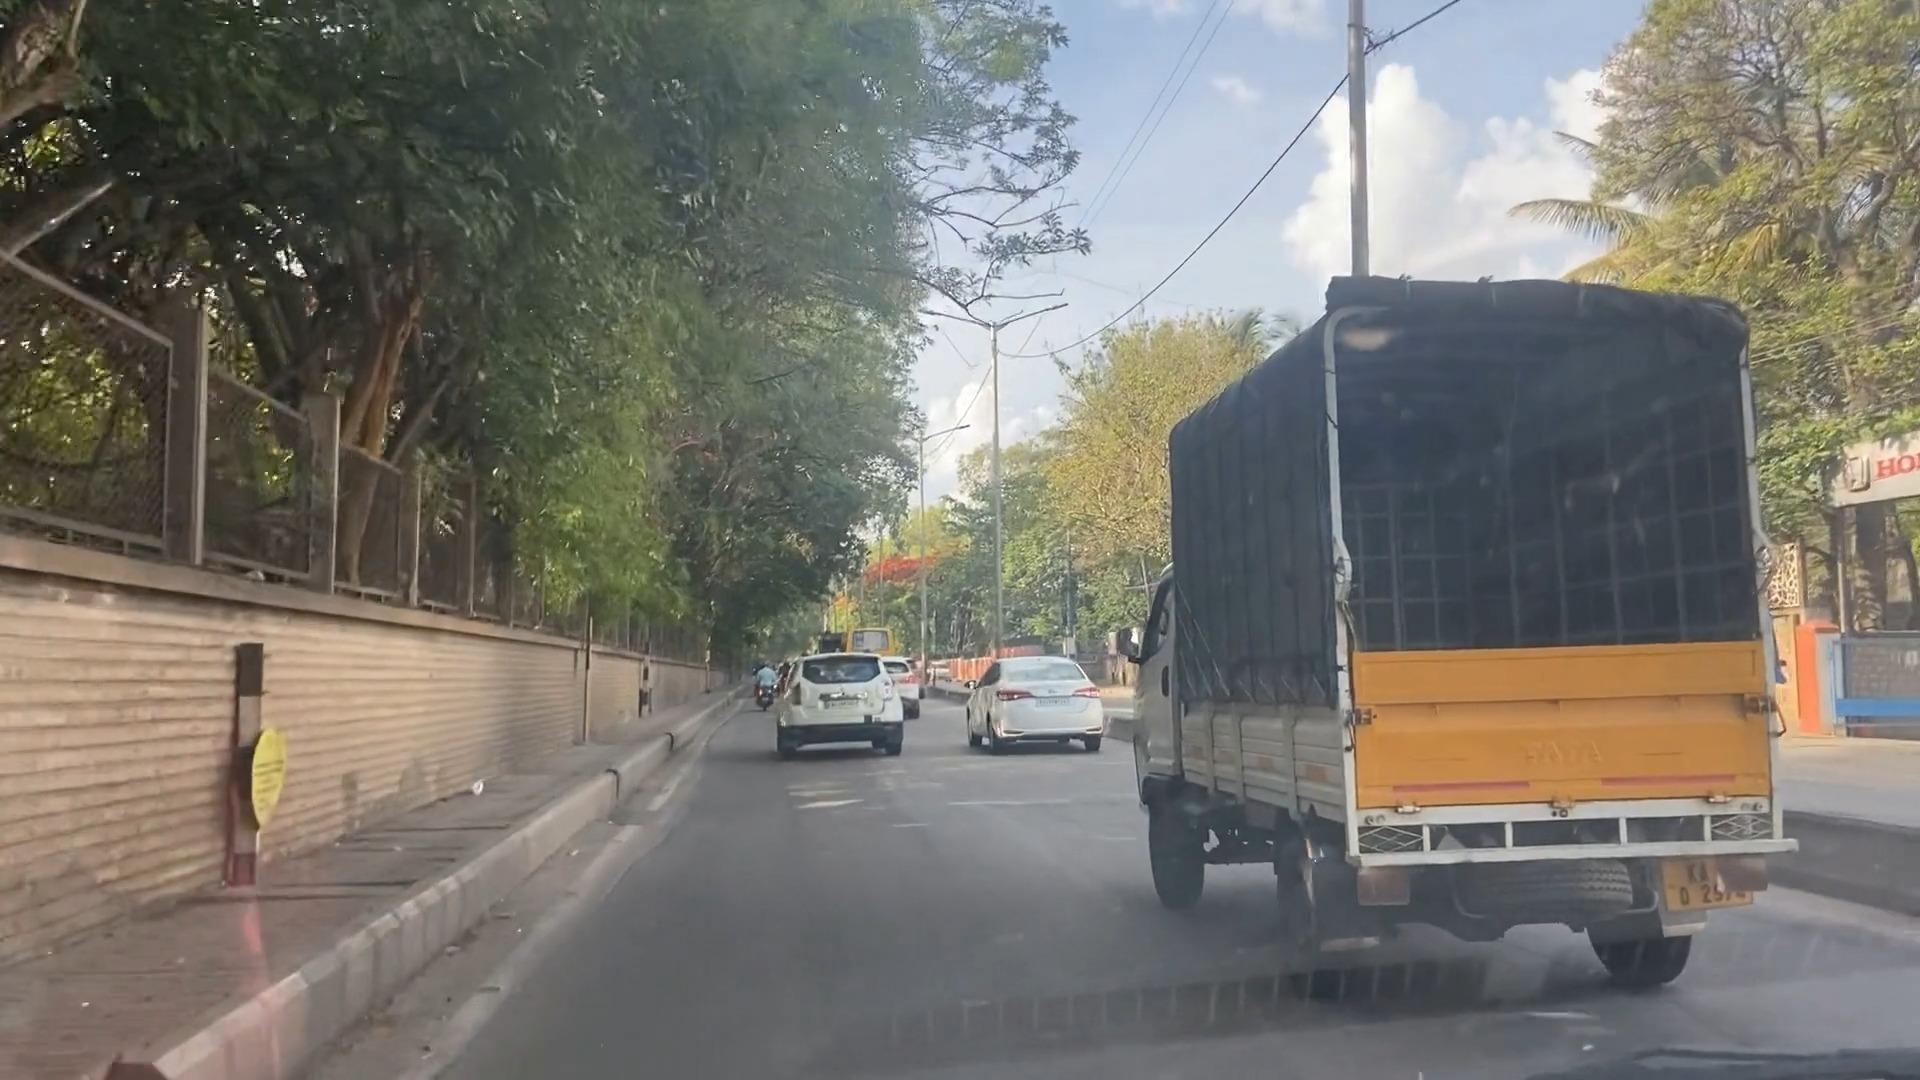HMV: (1134, 295, 1735, 955)
LMV: (779, 649, 907, 760)
